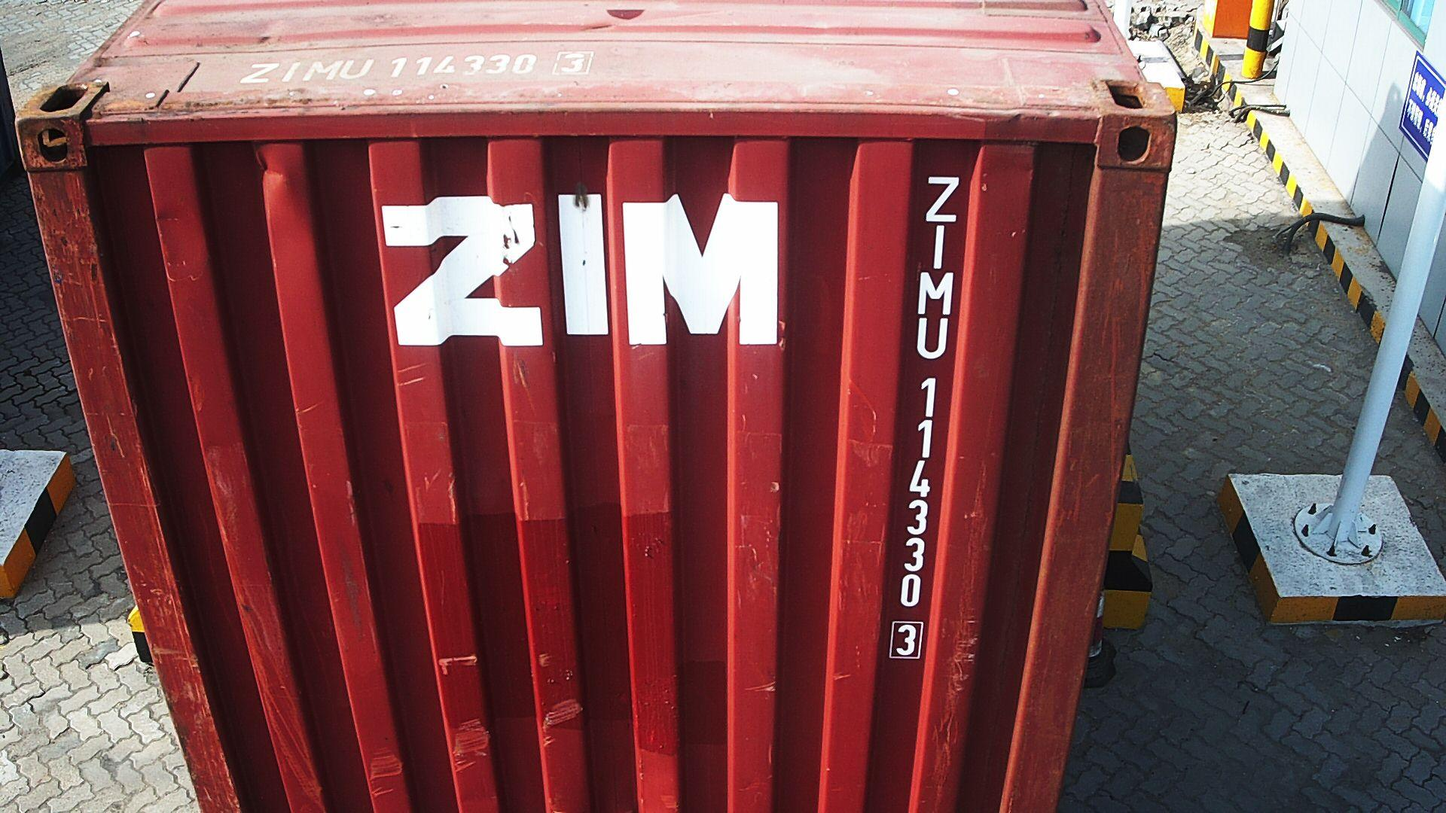container-numbers: (884, 172, 958, 662), (238, 50, 597, 87)
